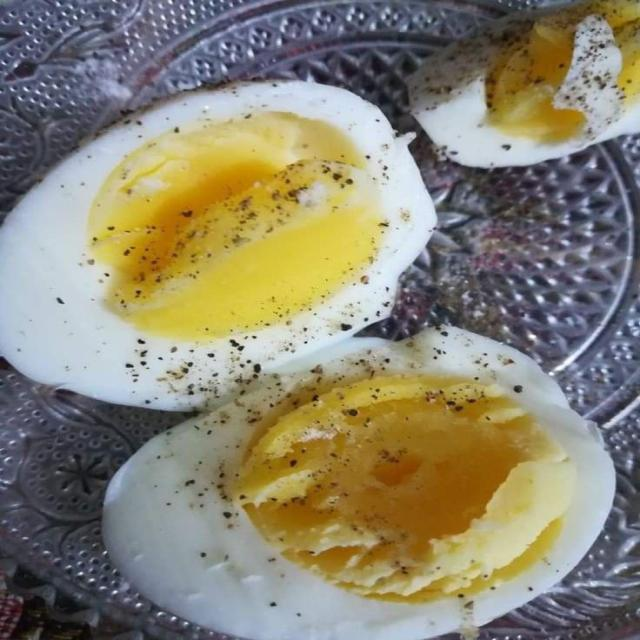eggs: (7, 27, 640, 622)
